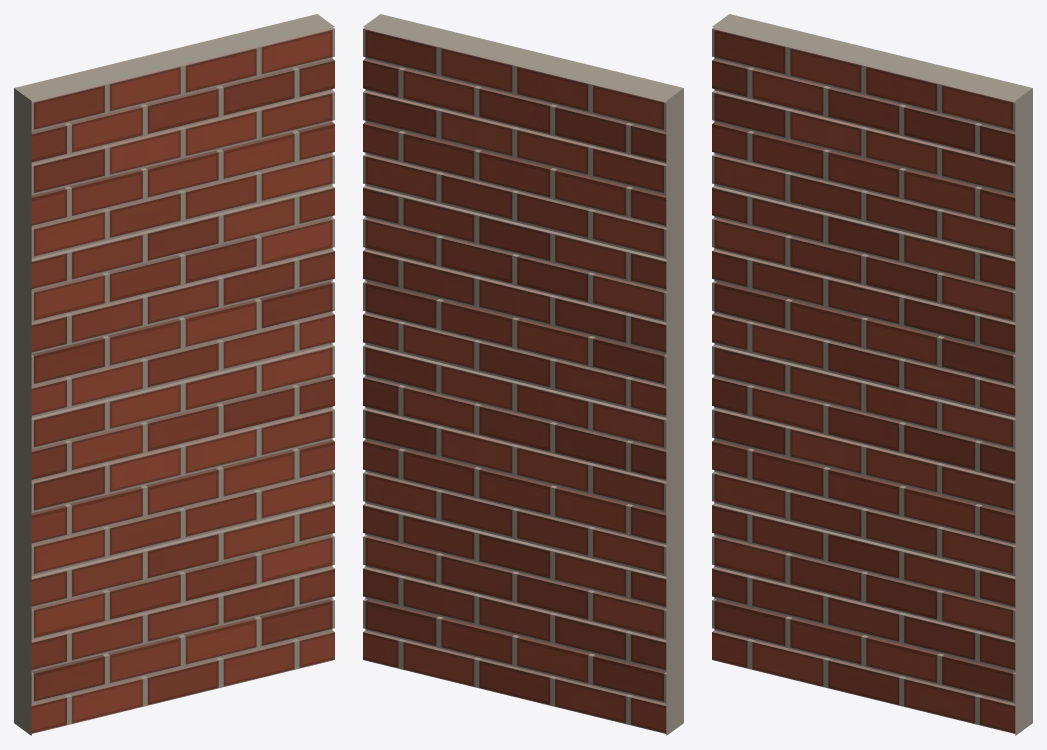
The model's file is mod-parede-tijolo.gltf.
The picture shows the model from 3 angles, left to right: view 1: azimuth 30°, elevation 25°; view 2: azimuth 150°, elevation 25°; view 3: azimuth 330°, elevation 25°; orthographic projection.
Parts seen in each view (by area): view 1: mod-parede-tijolo; view 2: mod-parede-tijolo; view 3: mod-parede-tijolo.
Part boxes in pixels (x1,y1,x2,y2): mod-parede-tijolo: (14, 14, 334, 735); mod-parede-tijolo: (363, 14, 683, 735); mod-parede-tijolo: (712, 14, 1032, 735).
Size of the model in its own units: 1 by 2 by 0.1.
2 materials, 1 textured.
